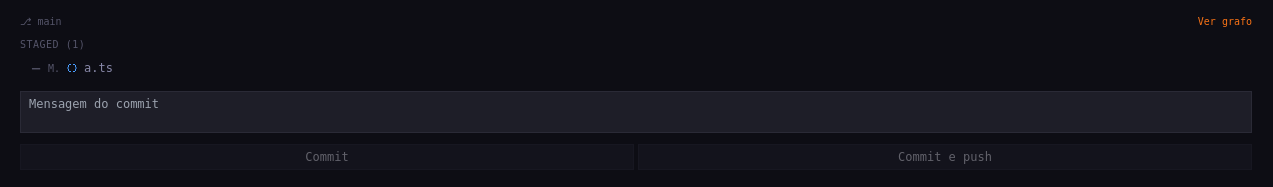
Test: GitPanel › push que falha não esconde que o commit já foi feito
The image size is (1273, 187).
Type "feat: coisa" into the text box with placeholder "Mensagem do commit" at (636, 112), box [20,91,1252,133]
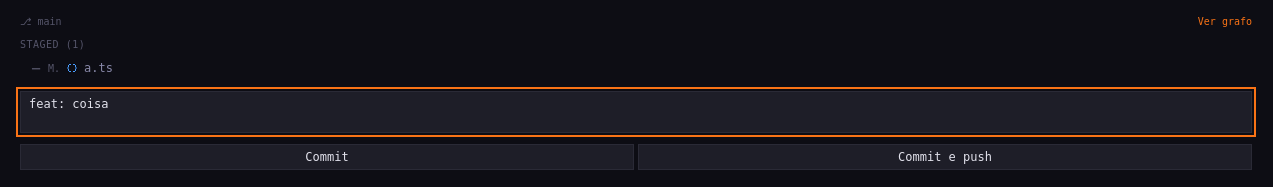
Click the button "Commit e push" at (945, 157), box [638,144,1252,170]
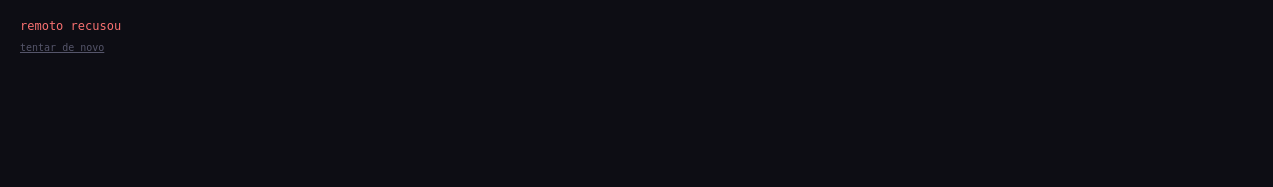
Check: the text "remoto recusou" is shown, box [20,19,121,33]
